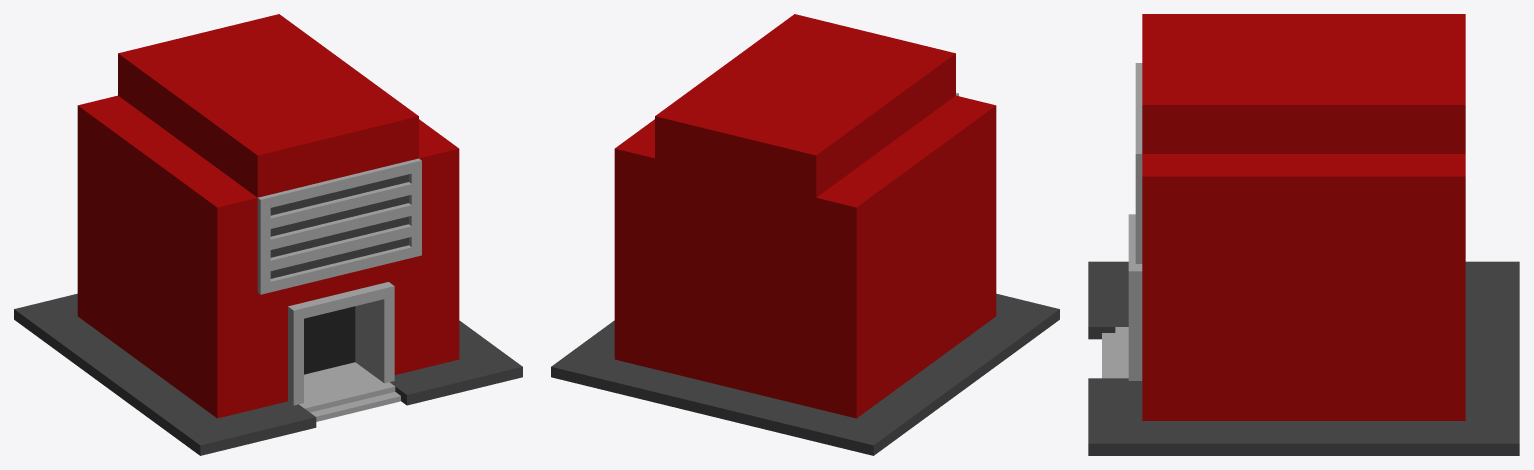
File: Red-5.obj
The picture shows the model from 3 angles, left to right: view 1: azimuth 30°, elevation 25°; view 2: azimuth 150°, elevation 25°; view 3: azimuth 270°, elevation 25°; orthographic projection. The views are drawn at different scales.
Parts seen in each view (by area): view 1: Red-5; view 2: Red-5; view 3: Red-5.
Part boxes in pixels (bbox=[...]): Red-5: bbox=[14, 14, 522, 455]; Red-5: bbox=[551, 14, 1059, 455]; Red-5: bbox=[1088, 14, 1519, 455].
Bounding box in the file's own units: 64 × 50 × 64.
Materials: 1 (1 with a texture image).
